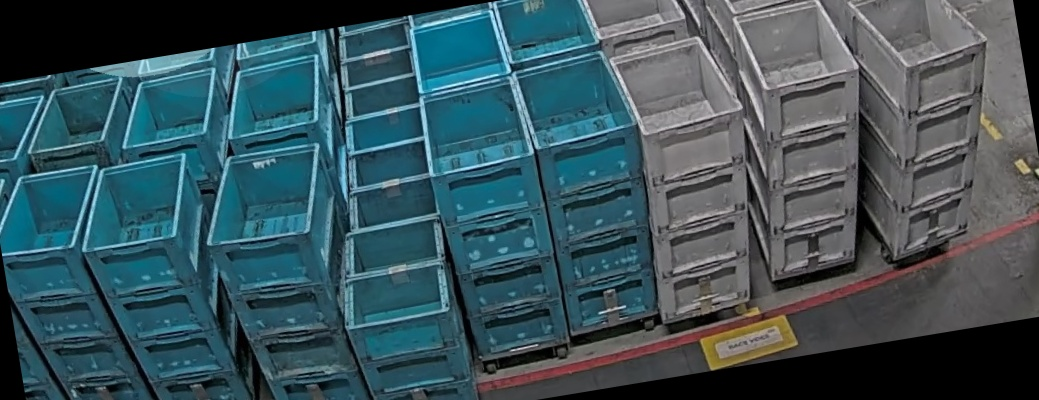4G: (828, 0, 1022, 264), (607, 30, 776, 323), (715, 0, 890, 282)
B4: (69, 147, 262, 400), (192, 140, 371, 400), (512, 46, 671, 338), (416, 74, 568, 365), (0, 159, 165, 400)
B8: (329, 215, 479, 400)
